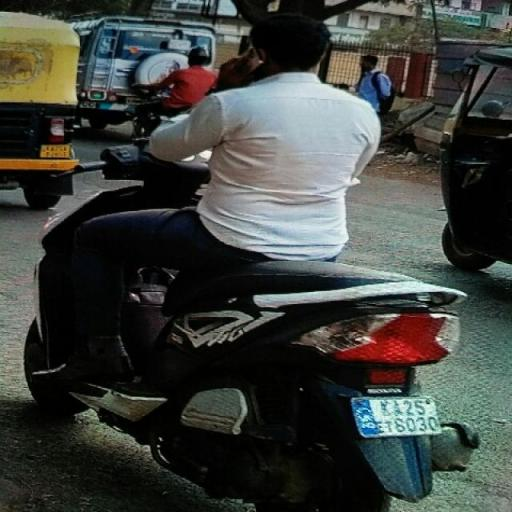using mobile: (218, 41, 269, 86)
